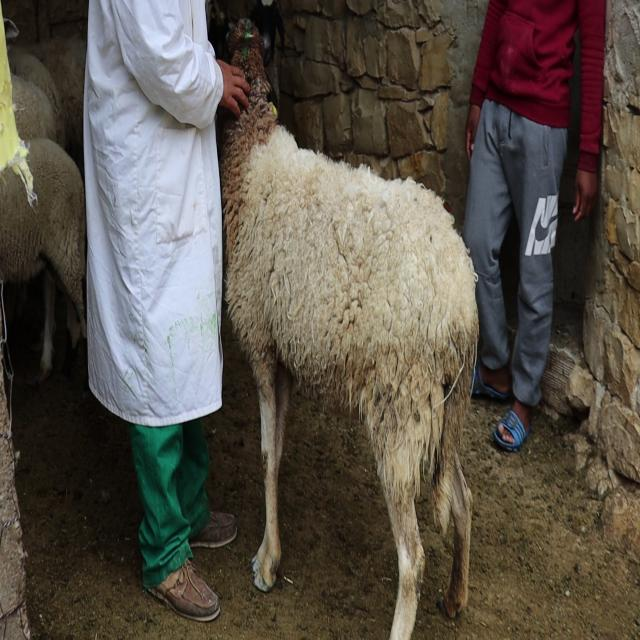Score_2: (220, 18, 478, 639)
